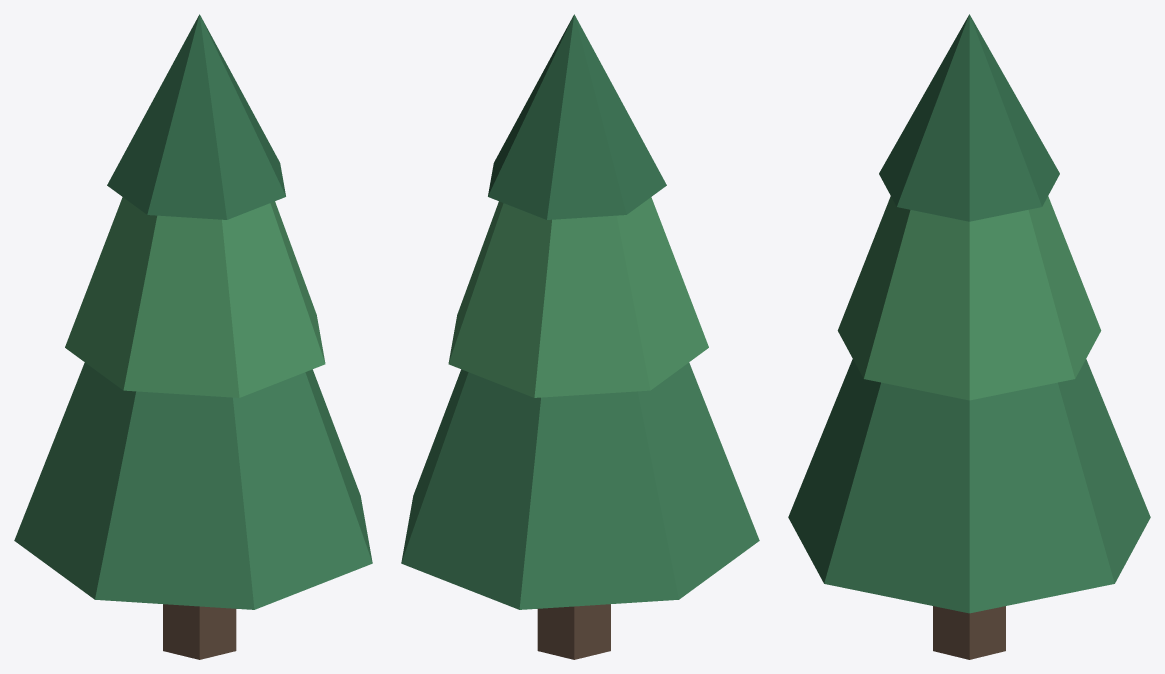
Rendered from tree_pine_soft.glb.
The picture shows the model from 3 angles, left to right: view 1: azimuth 30°, elevation 25°; view 2: azimuth 150°, elevation 25°; view 3: azimuth 270°, elevation 25°; orthographic projection.
Visible parts, largest first — view 1: part_00; view 2: part_00; view 3: part_00.
Part boxes in pixels (x1,y1,x2,y2): part_00: (14,14,372,659); part_00: (401,14,759,659); part_00: (788,14,1150,659).
Size of the model in its own units: 0.4182 by 0.82 by 0.429.
